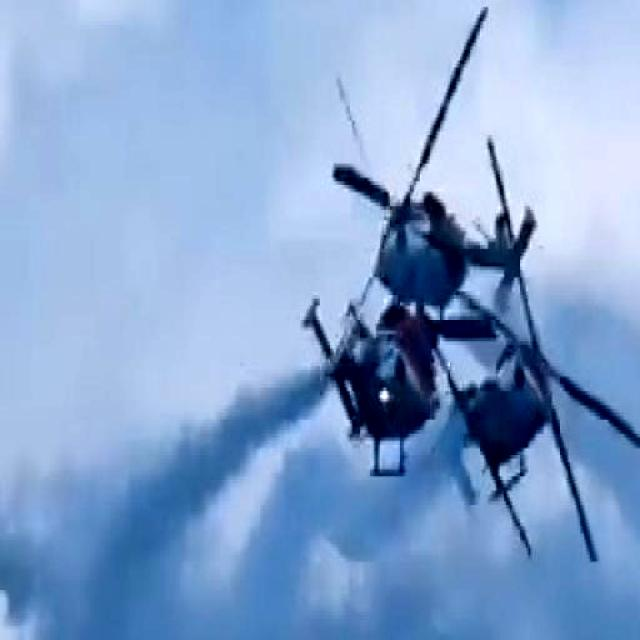drone: (330, 0, 590, 302), (445, 294, 640, 545), (302, 265, 455, 491)
